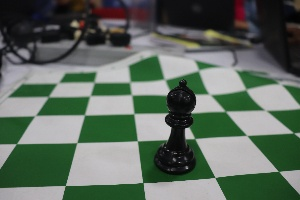black_bishop: (149, 67, 203, 180)
